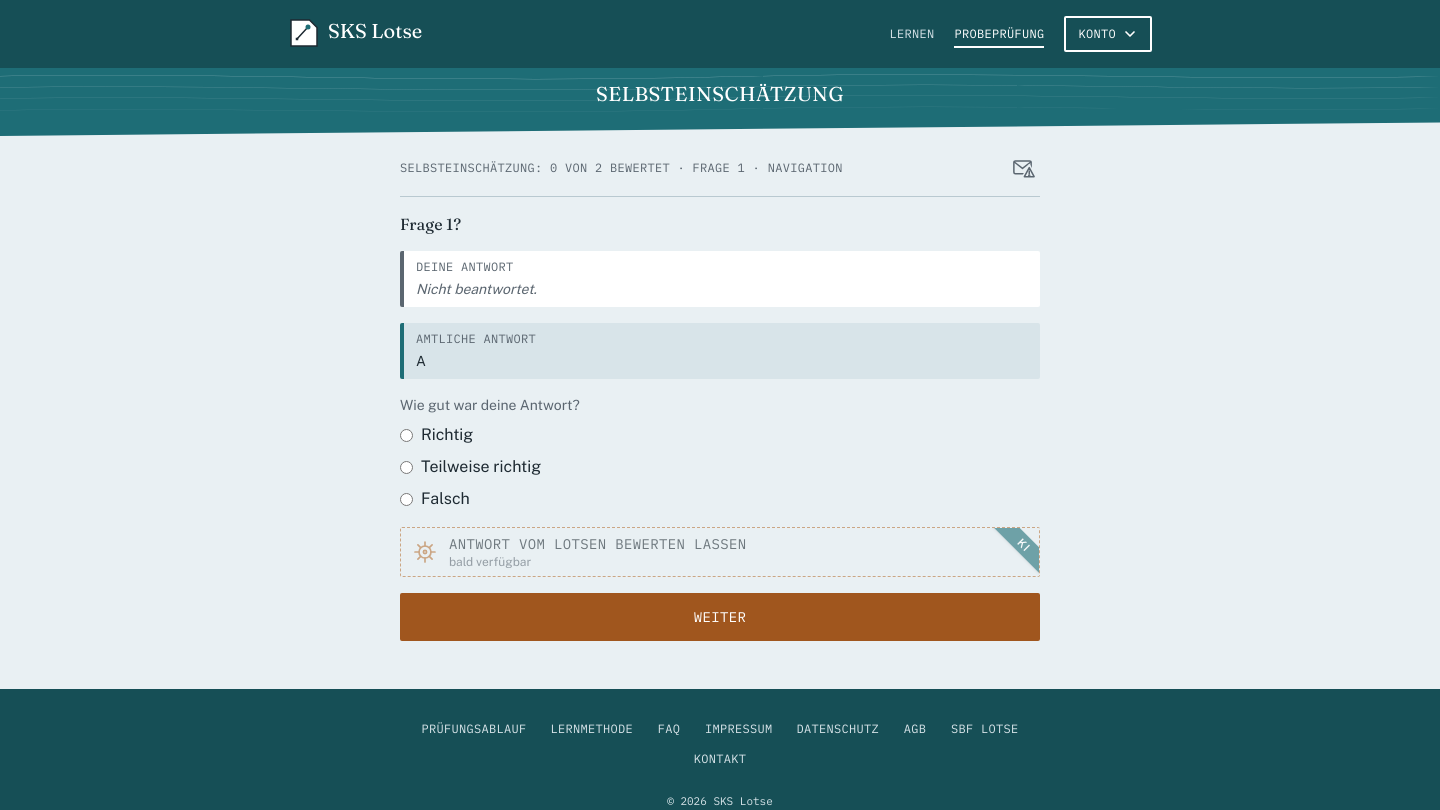
Test: ExamRunPage › also saves a self-assessment chosen with the mouse
Click the radio button labelled "Falsch". click: (406, 499)
box: [400,492,413,506]
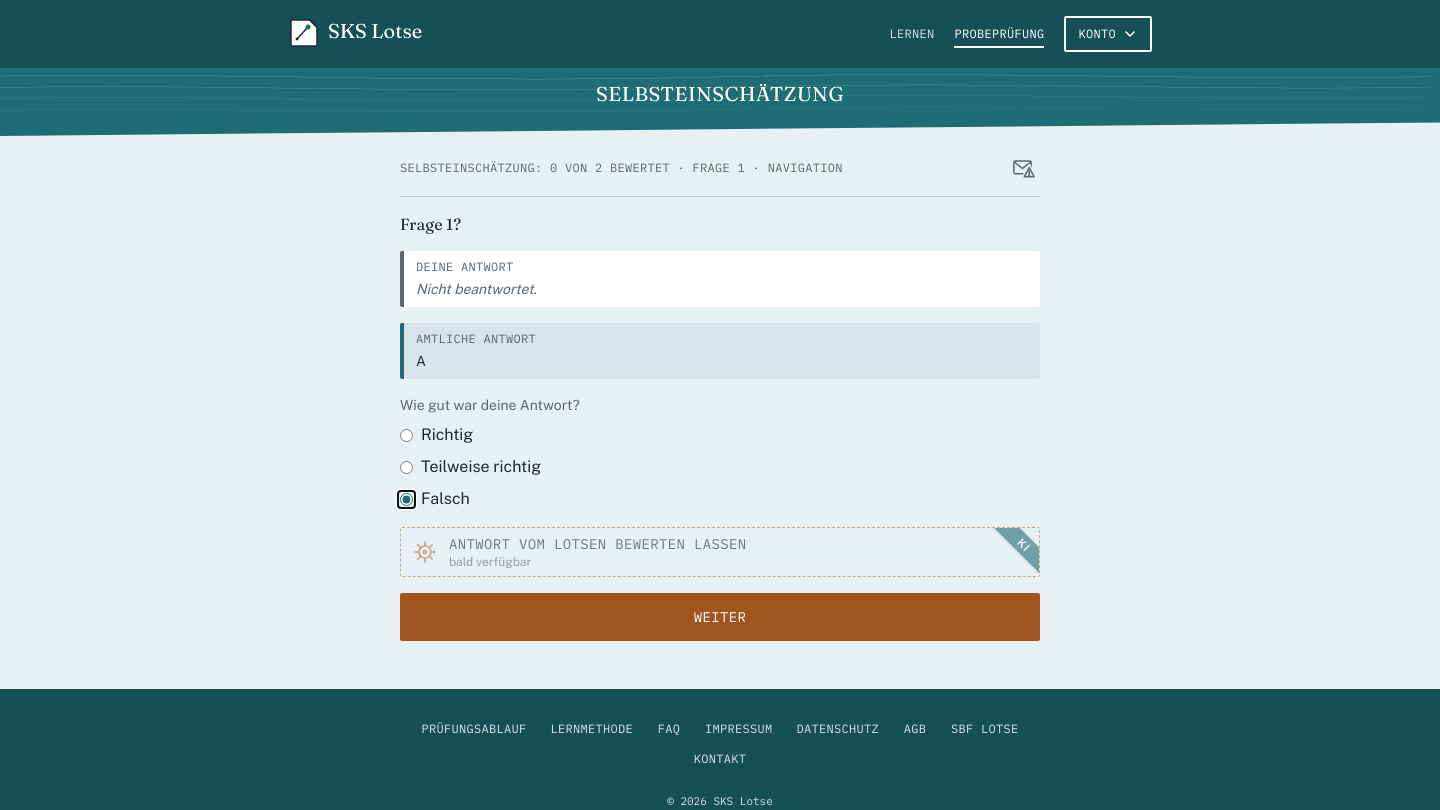
Click the button "Weiter". click: (720, 617)
box: [400,593,1040,641]
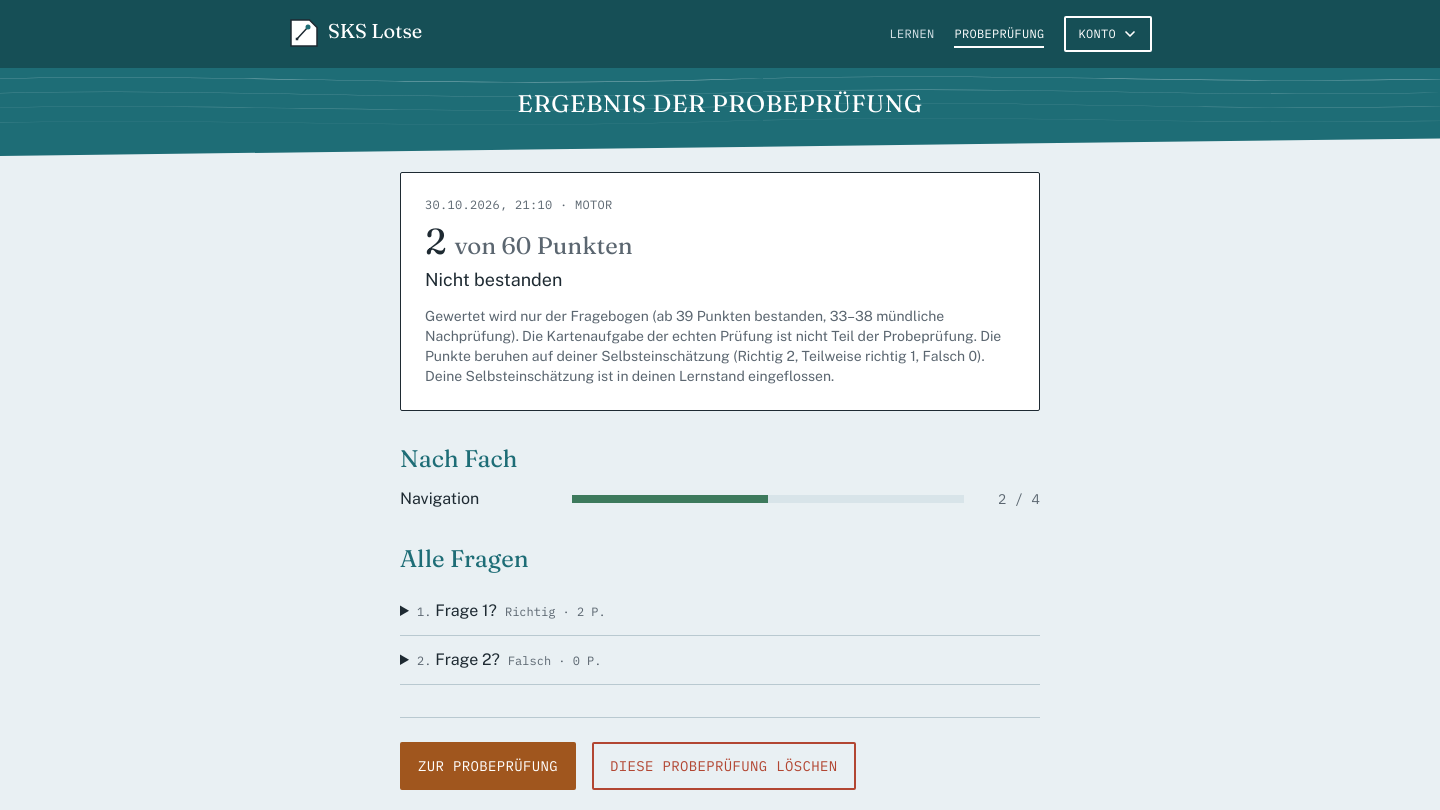
Now the heading "Ergebnis der Probeprüfung" is shown, box [517,89,923,118]
